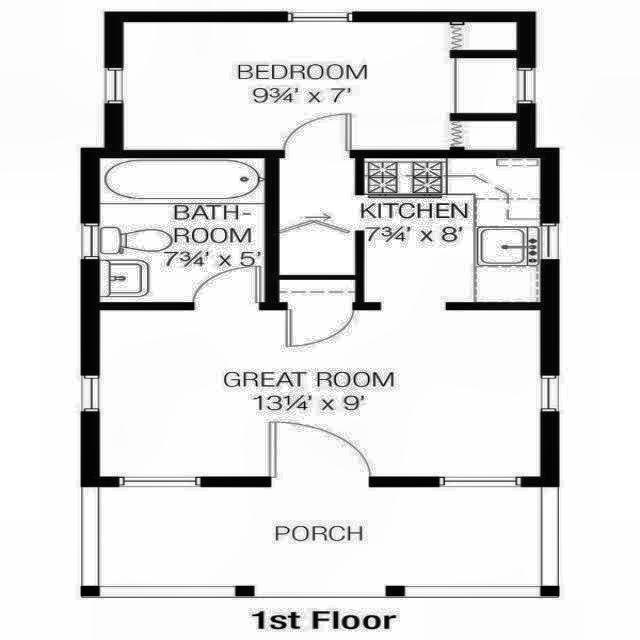room: (99, 310, 539, 474), (126, 21, 516, 150), (100, 487, 542, 585), (365, 158, 540, 301), (104, 159, 265, 301), (282, 159, 353, 274), (280, 281, 355, 300)
